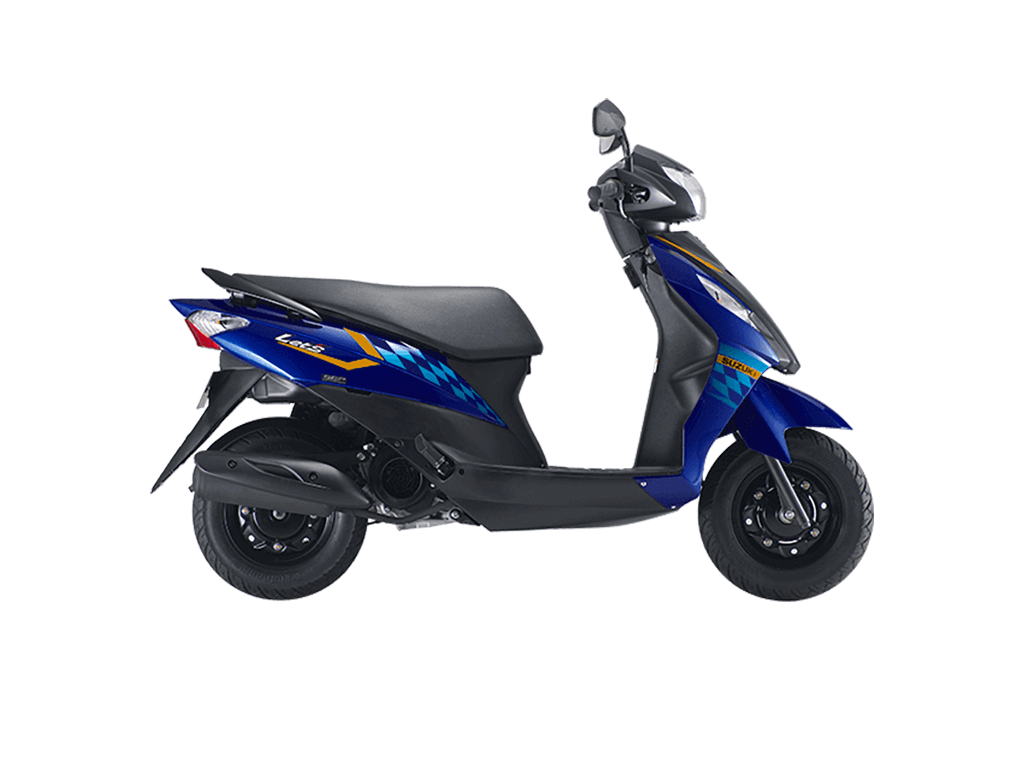bike: (168, 121, 877, 609)
